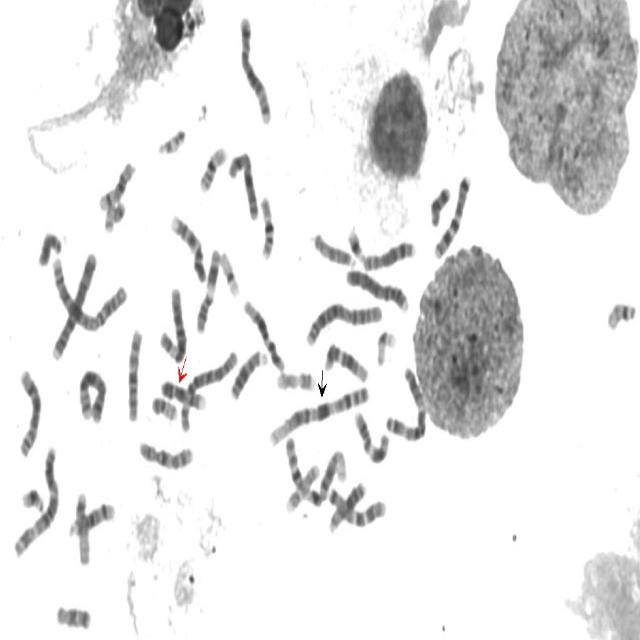A1: (266, 378, 372, 449), (282, 434, 349, 511)
A2: (48, 251, 128, 333), (303, 296, 384, 348)
A3: (10, 440, 61, 559), (383, 360, 428, 444)
B4: (48, 245, 99, 362), (343, 263, 411, 315)
B5: (237, 9, 273, 126), (76, 364, 108, 426)
C10: (136, 434, 195, 472), (124, 323, 144, 424)
C11: (193, 243, 222, 335), (352, 406, 391, 466)
C12: (240, 294, 286, 374), (322, 337, 370, 385)
C6: (177, 344, 240, 436), (156, 281, 188, 364)
C7: (432, 169, 472, 261), (325, 481, 388, 532)
C8: (15, 362, 43, 460), (360, 235, 417, 272)
C9: (168, 209, 208, 284), (158, 375, 208, 412)
D13: (228, 344, 270, 402), (327, 476, 368, 535)
D14: (96, 156, 137, 213), (66, 496, 116, 538)
D15: (310, 227, 358, 269), (72, 485, 91, 568)
E16: (196, 140, 229, 194), (257, 190, 276, 262)
E17: (283, 456, 322, 515), (273, 366, 315, 393)
E18: (53, 599, 93, 632), (428, 181, 452, 228)
F19: (217, 245, 241, 298), (374, 325, 398, 368)
F20: (101, 194, 127, 234), (148, 391, 178, 422)
G21: (19, 482, 46, 515), (345, 221, 366, 261)
G22: (604, 296, 638, 333), (154, 123, 187, 157)
X: (225, 146, 261, 222)
Y: (34, 225, 64, 268)
